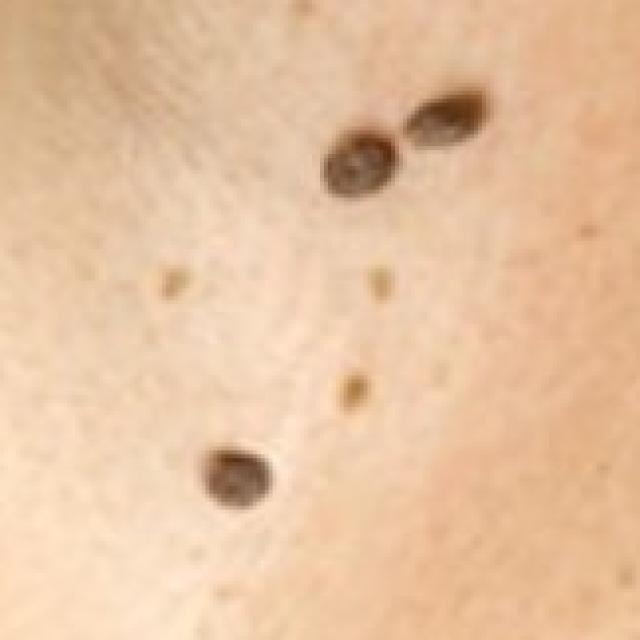wart: (403, 83, 494, 158), (324, 126, 403, 202), (198, 438, 280, 506)
